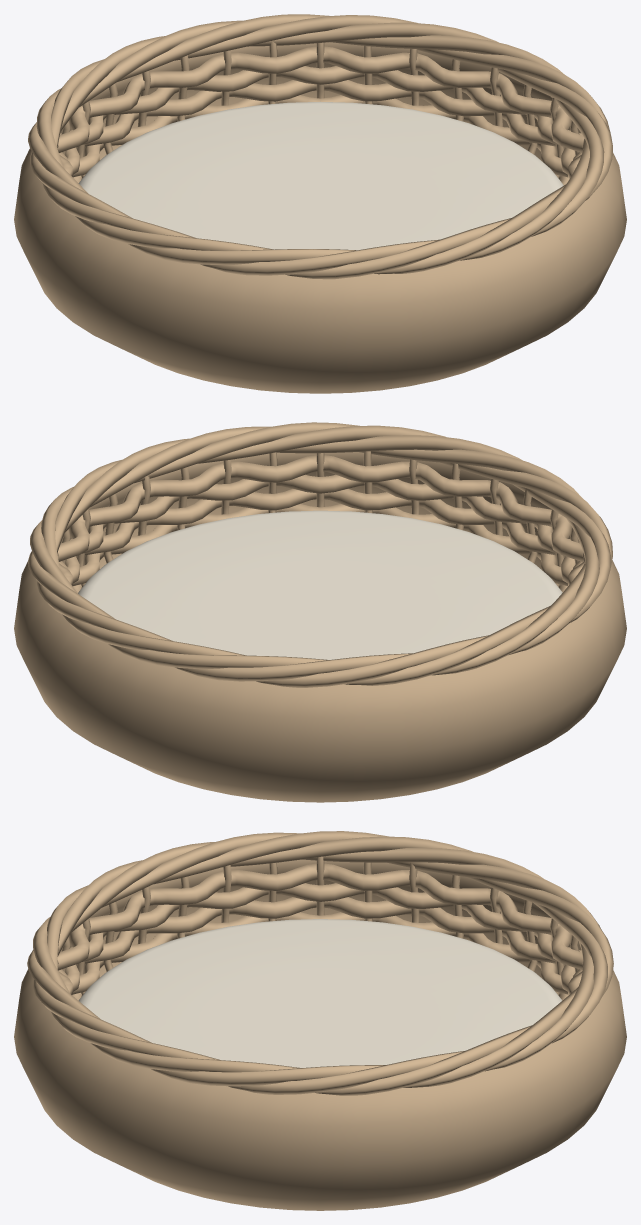
File: Crib.fbx
3 renders of one model, top to bottom at view 1: azimuth 30°, elevation 25°; view 2: azimuth 150°, elevation 25°; view 3: azimuth 270°, elevation 25°, orthographic.
Visible parts, largest first — view 1: Crib_Shell, Crib_Mattress, Crib_Rim, Crib_Weave; view 2: Crib_Shell, Crib_Mattress, Crib_Rim, Crib_Weave; view 3: Crib_Shell, Crib_Mattress, Crib_Rim, Crib_Weave.
Boxes of the visible parts, x1,y1,x2,y2 form: Crib_Shell: [14, 42, 626, 393]; Crib_Mattress: [78, 101, 563, 250]; Crib_Rim: [28, 14, 612, 279]; Crib_Weave: [57, 41, 585, 185]; Crib_Shell: [14, 452, 626, 802]; Crib_Mattress: [78, 510, 562, 659]; Crib_Rim: [28, 422, 612, 687]; Crib_Weave: [57, 451, 585, 592]; Crib_Shell: [14, 859, 626, 1210]; Crib_Mattress: [78, 919, 562, 1067]; Crib_Rim: [27, 831, 613, 1095]; Crib_Weave: [57, 856, 583, 1000].
Size of the model in its own units: 1.18 by 0.375 by 1.18.
